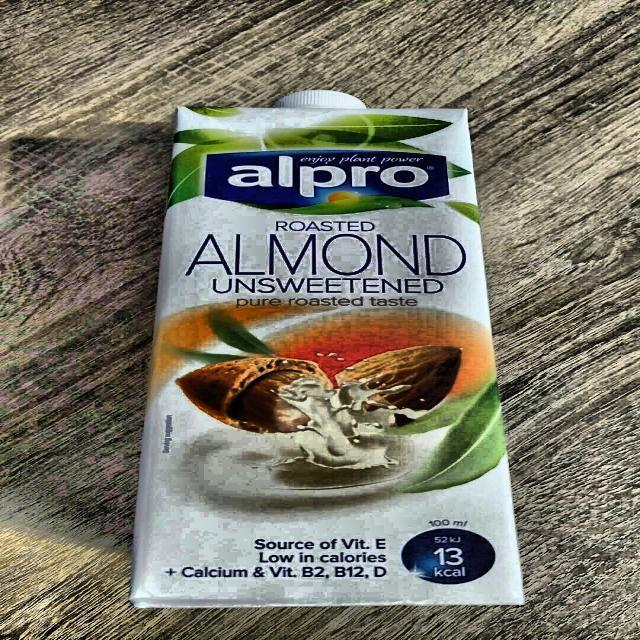cardboard: (128, 100, 526, 608)
